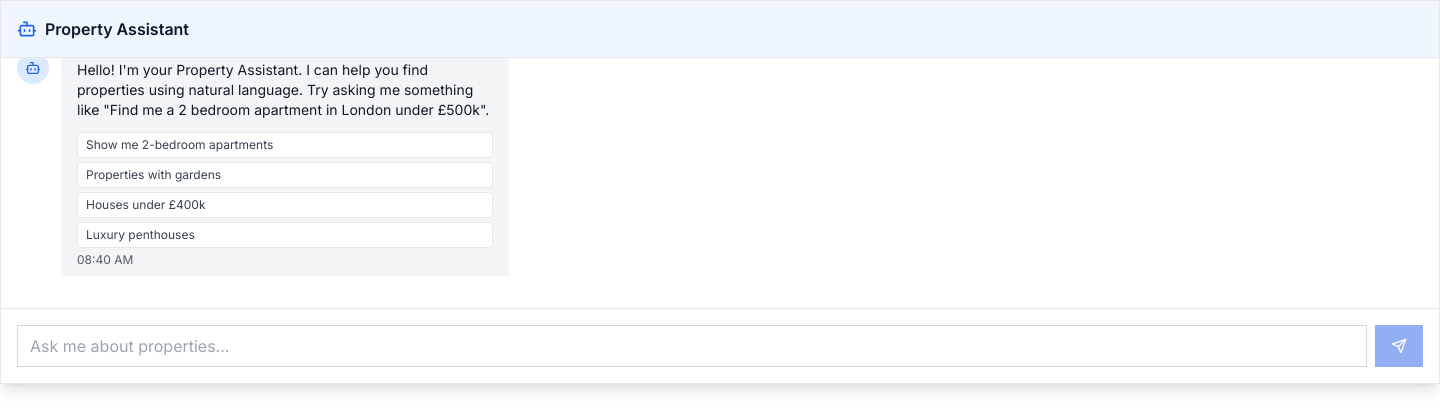
Scenario: ChatBot TDD Implementation › REFACTOR Phase: Enhanced features › should handle property search integration
(page scrolled)
Type "Find me a 2 bedroom apartment in London" into the field named "message".
click(692, 346); type("Find me a 2 bedroom apartment in London")  # box [17,325,1367,367]
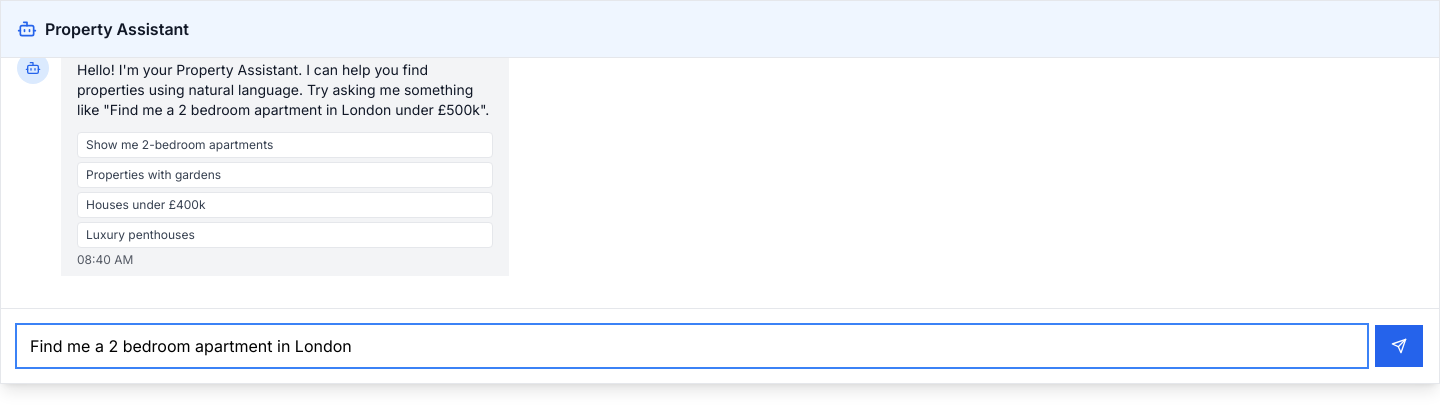
Click the button named "send".
click(1399, 346)  # box [1375,325,1423,367]
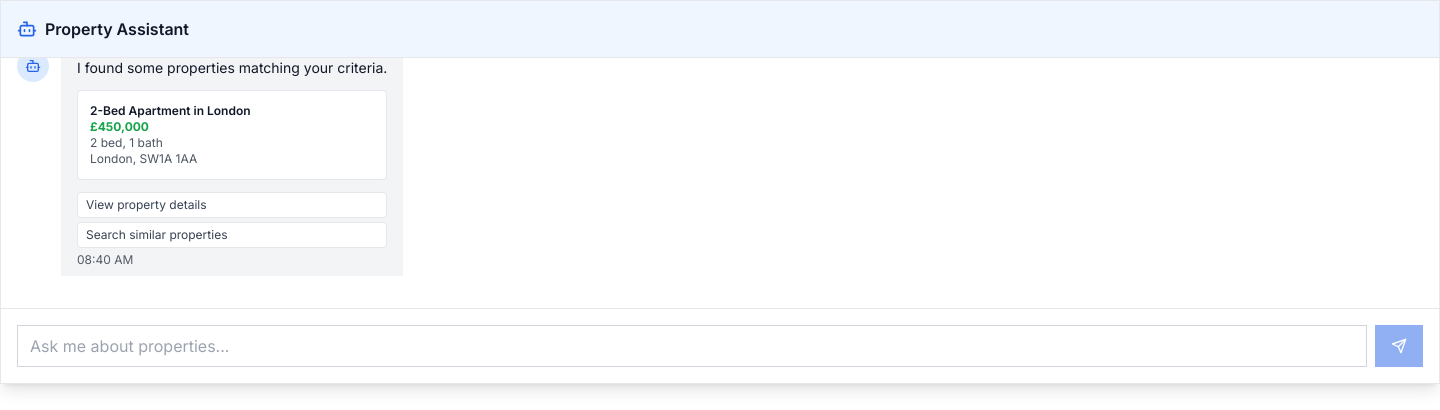
Now the heading "2-Bed Apartment in London" is shown, box [90,103,251,118]
Now the text "£450,000" is shown, box [90,119,149,134]
Now the button "View property details" is shown, box [77,192,387,218]
